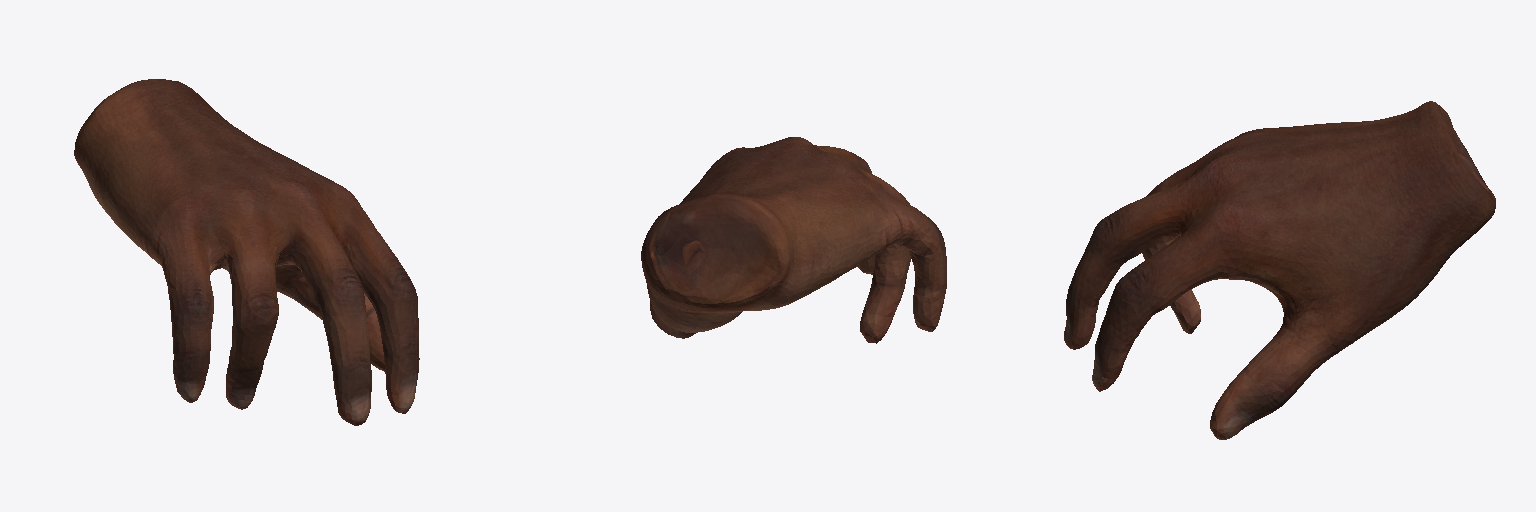
3 renders of one model, left to right at view 1: azimuth 30°, elevation 25°; view 2: azimuth 150°, elevation 25°; view 3: azimuth 270°, elevation 25°, orthographic.
Bounding box in the file's own units: 114 × 107 × 166.
1 materials, 1 textured.